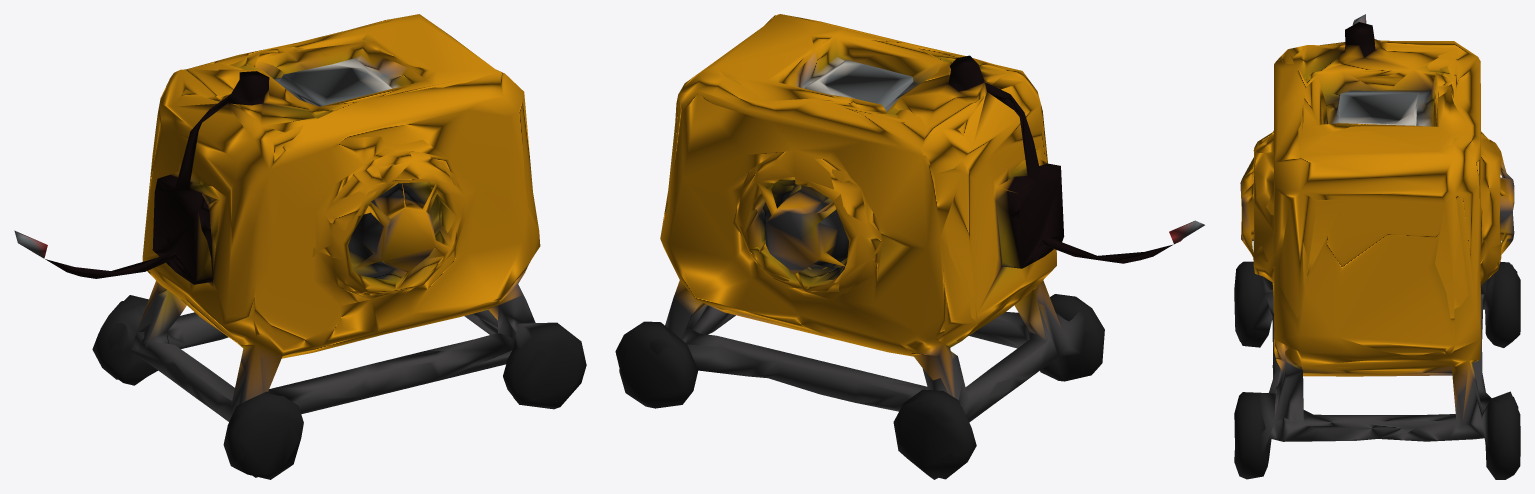
File: gen3d-electric-generator-lod0.glb
The picture shows the model from 3 angles, left to right: view 1: azimuth 30°, elevation 25°; view 2: azimuth 150°, elevation 25°; view 3: azimuth 270°, elevation 25°; orthographic projection. The views are drawn at different scales.
Visible parts, largest first — view 1: part_0; view 2: part_0; view 3: part_0.
Boxes of the visible parts, bbox=[...] form: part_0: bbox=[14, 14, 586, 479]; part_0: bbox=[615, 14, 1204, 479]; part_0: bbox=[1234, 14, 1520, 479].
Bounding box in the file's own units: 1.51 × 0.9912 × 0.7621.
